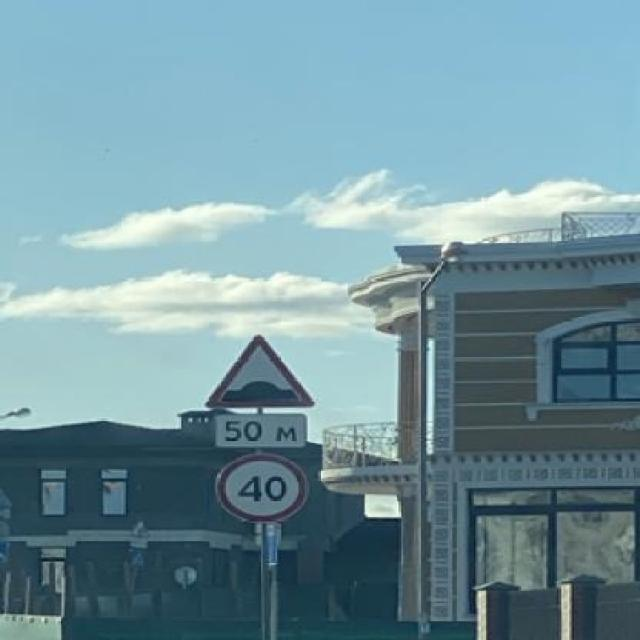forb_speed_over_40: (215, 457, 307, 521)
